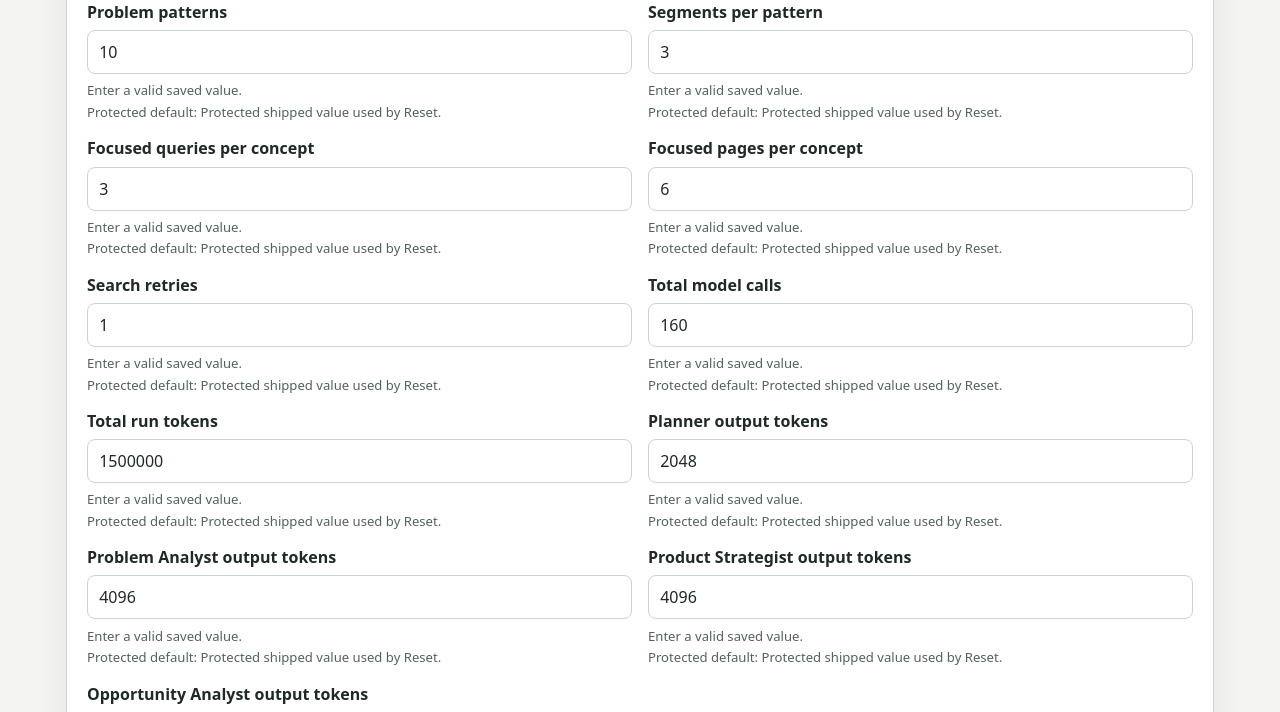
Test: SettingsView › rejects a blank zero-minimum numeric field
The width and height of the screenshot is (1280, 712).
(page scrolled)
Clear the number field labelled "Search retries" at point(360, 325), box left=87, top=303, right=632, bottom=347
(page scrolled)
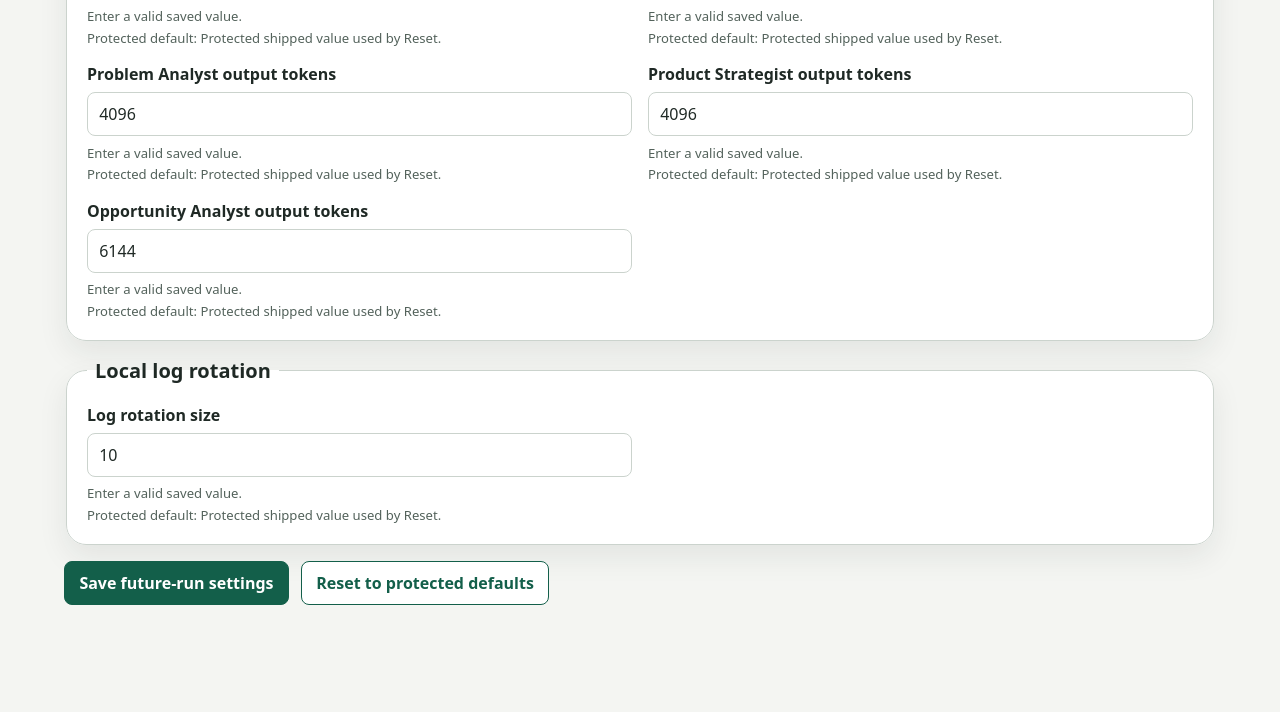
Click the button "Save future-run settings" at point(176, 583), box left=64, top=561, right=289, bottom=605
(page scrolled)
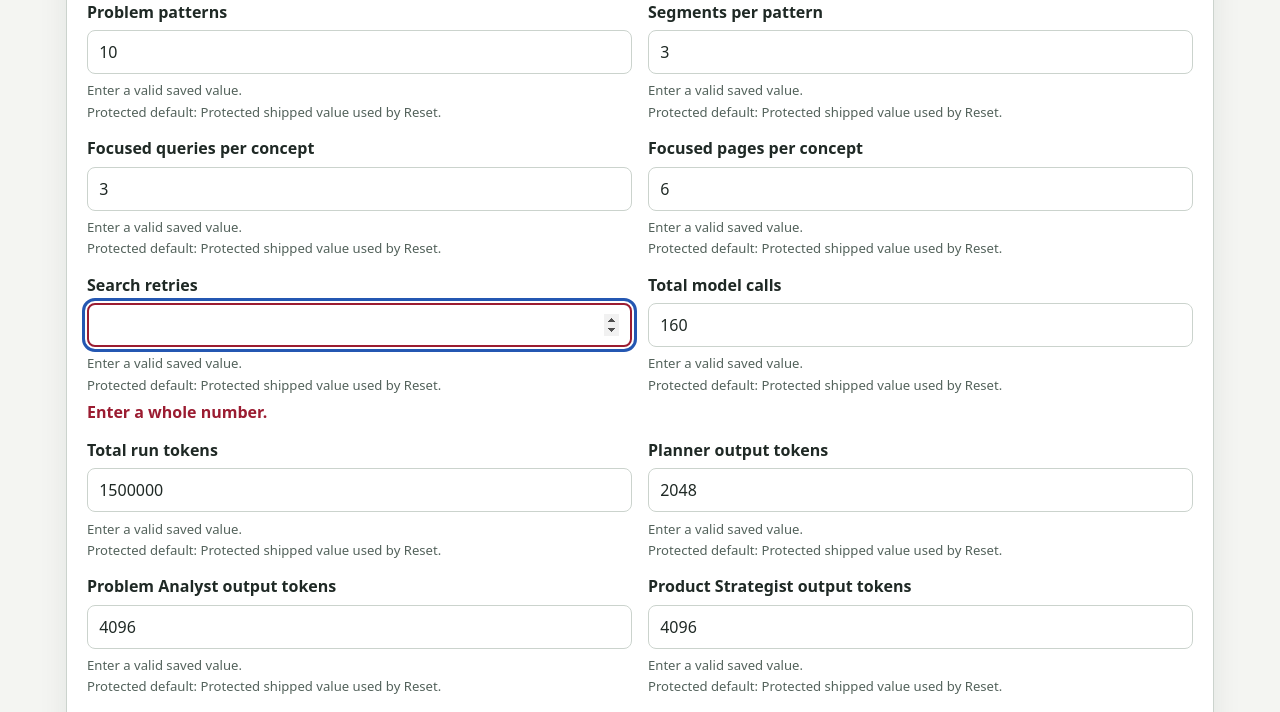
Check: the text "Enter a whole number." is shown, box left=87, top=401, right=267, bottom=423
